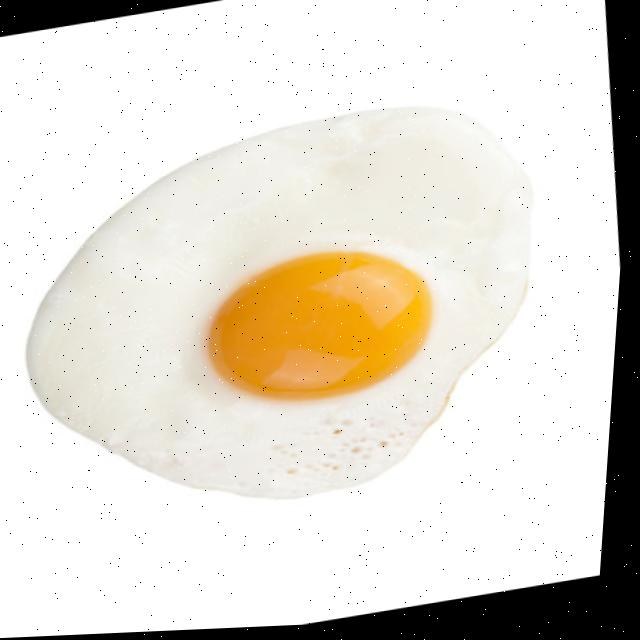Egg: (31, 112, 533, 501)
